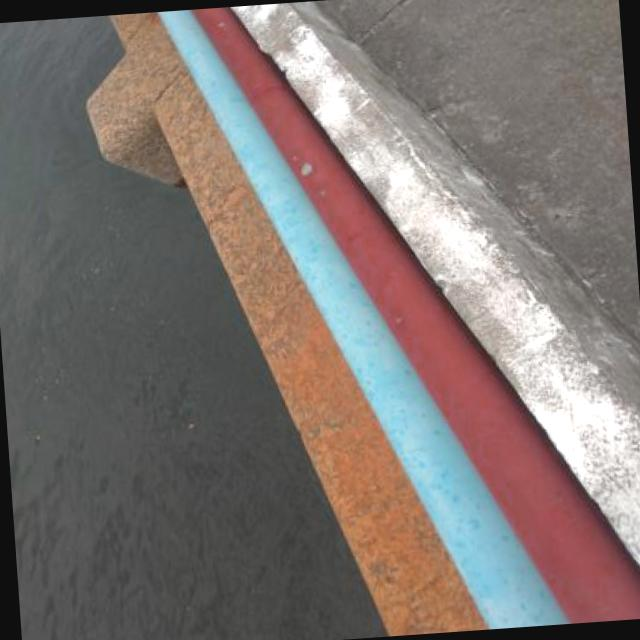gas: (192, 6, 640, 623), (155, 8, 574, 629)
